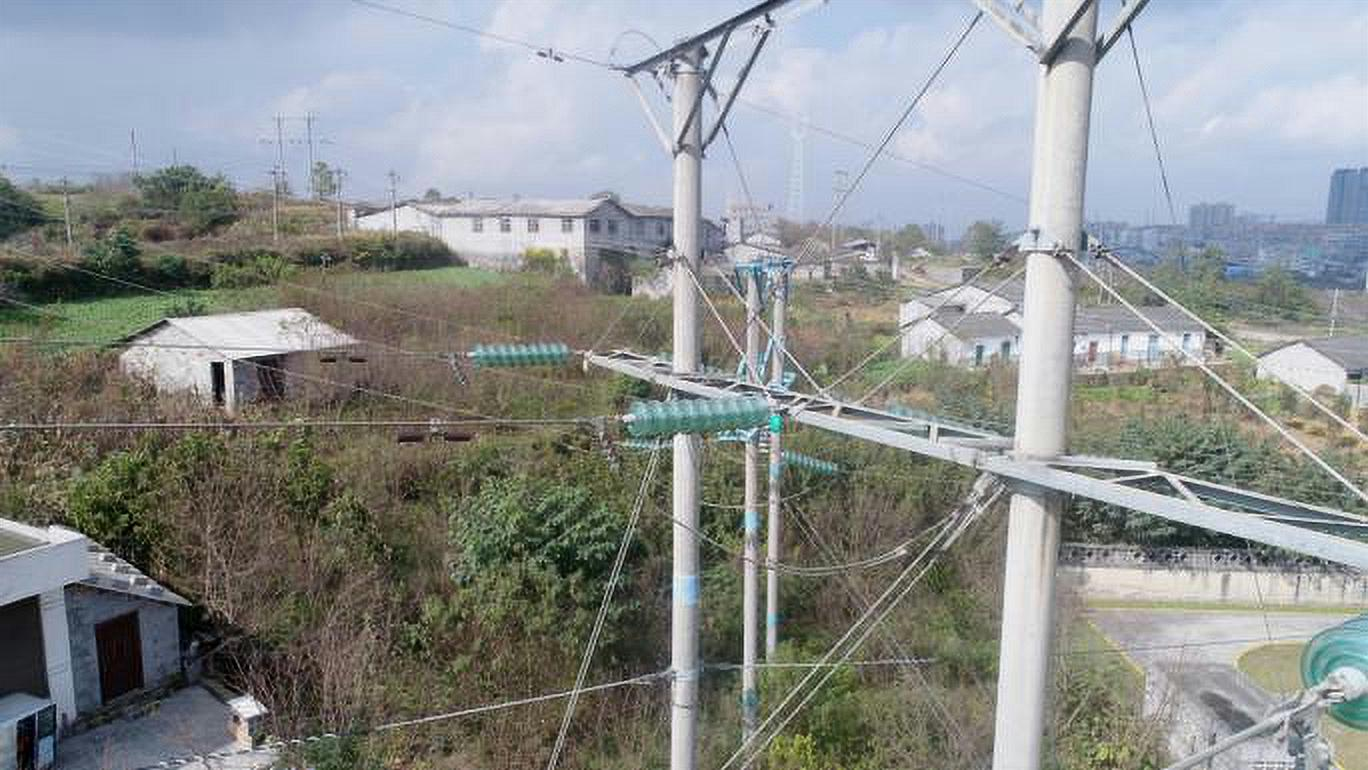insulator: (623, 389, 774, 441), (468, 339, 571, 372), (777, 443, 839, 480)
